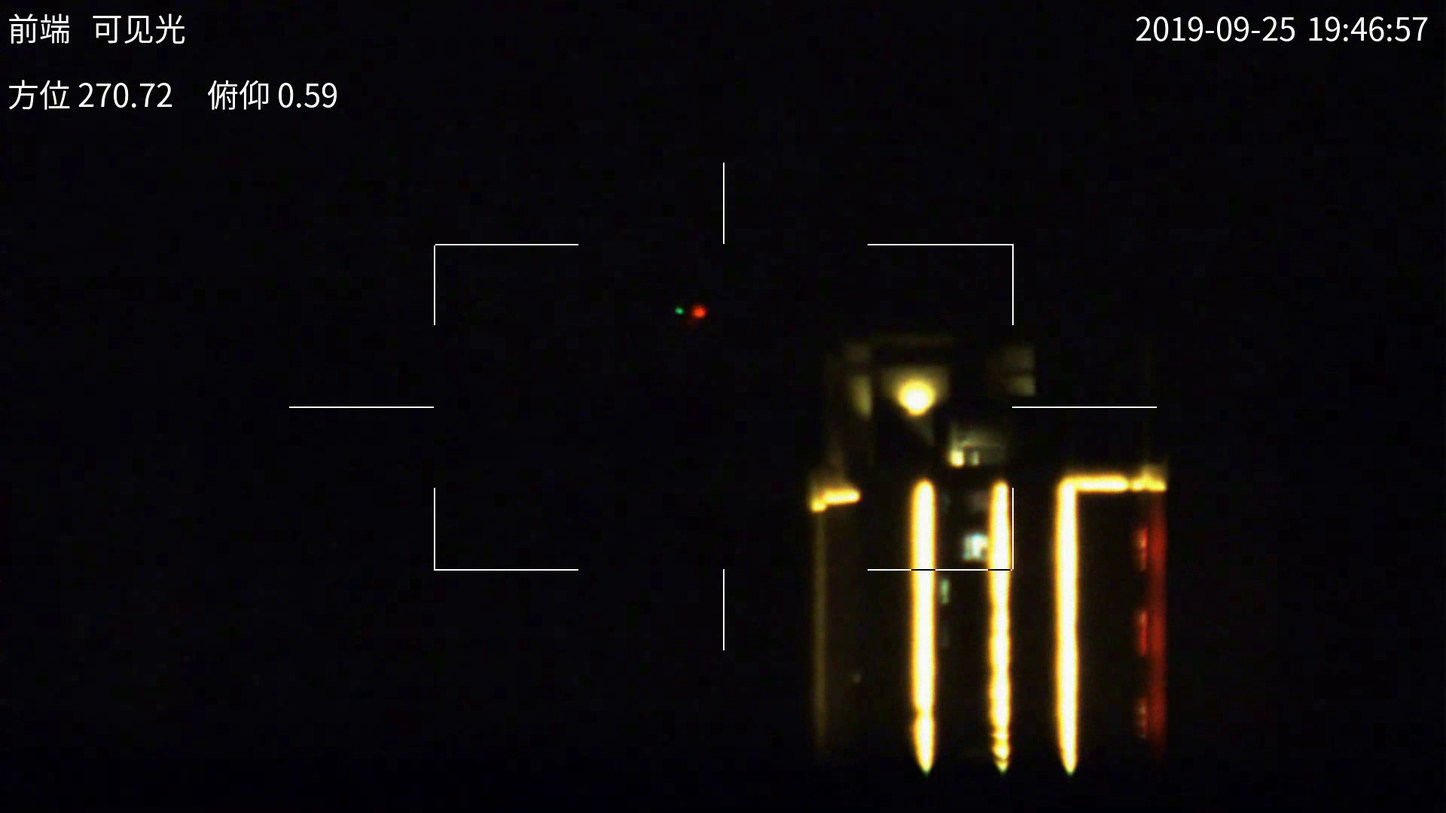drone_other: (670, 302, 709, 330)
